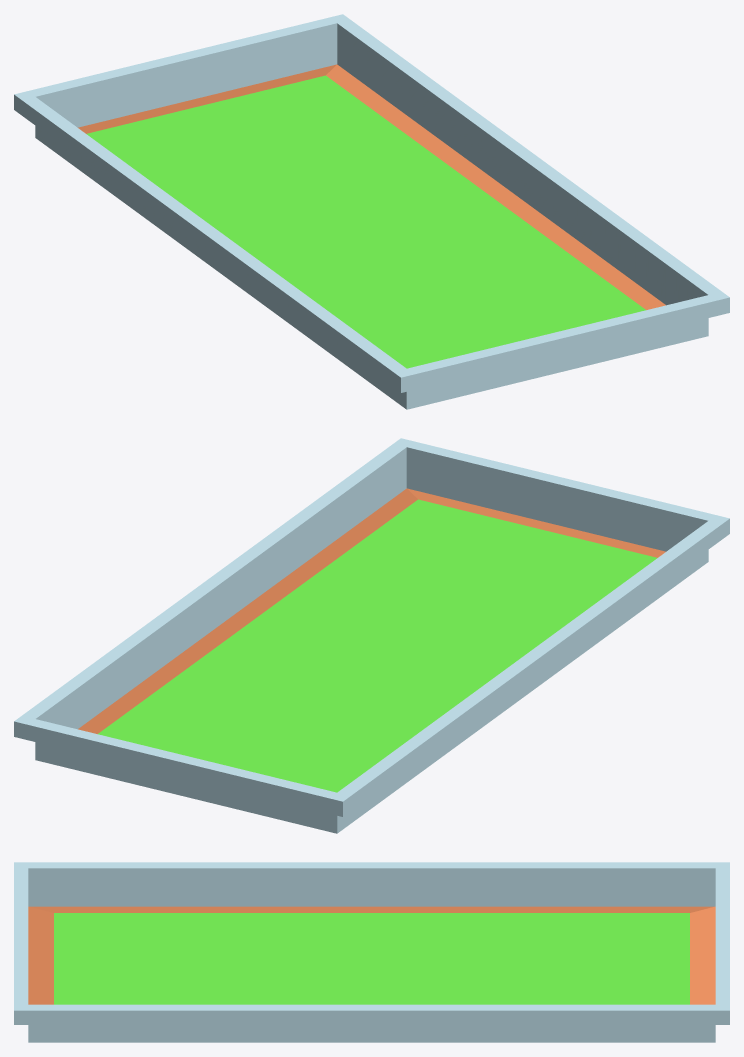
File: GameMap.fbx
3 views of the same model, one above another, from view 1: azimuth 30°, elevation 25°; view 2: azimuth 150°, elevation 25°; view 3: azimuth 270°, elevation 25° (orthographic). The views are drawn at different scales.
Visible parts, largest first — view 1: GameEnclosement; view 2: GameEnclosement; view 3: GameEnclosement.
Part boxes in pixels (x1,y1,x2,y2): GameEnclosement: [14, 14, 729, 409]; GameEnclosement: [14, 438, 729, 833]; GameEnclosement: [14, 862, 729, 1042].
Size of the model in its own units: 6693 by 800 by 13634.
